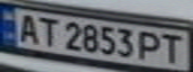2: (60, 19, 84, 52)
3: (115, 26, 139, 60)
5: (97, 24, 118, 56)
8: (78, 21, 100, 55)
A: (12, 11, 42, 44)
P: (136, 29, 166, 62)
T: (157, 30, 187, 64), (33, 15, 60, 47)
